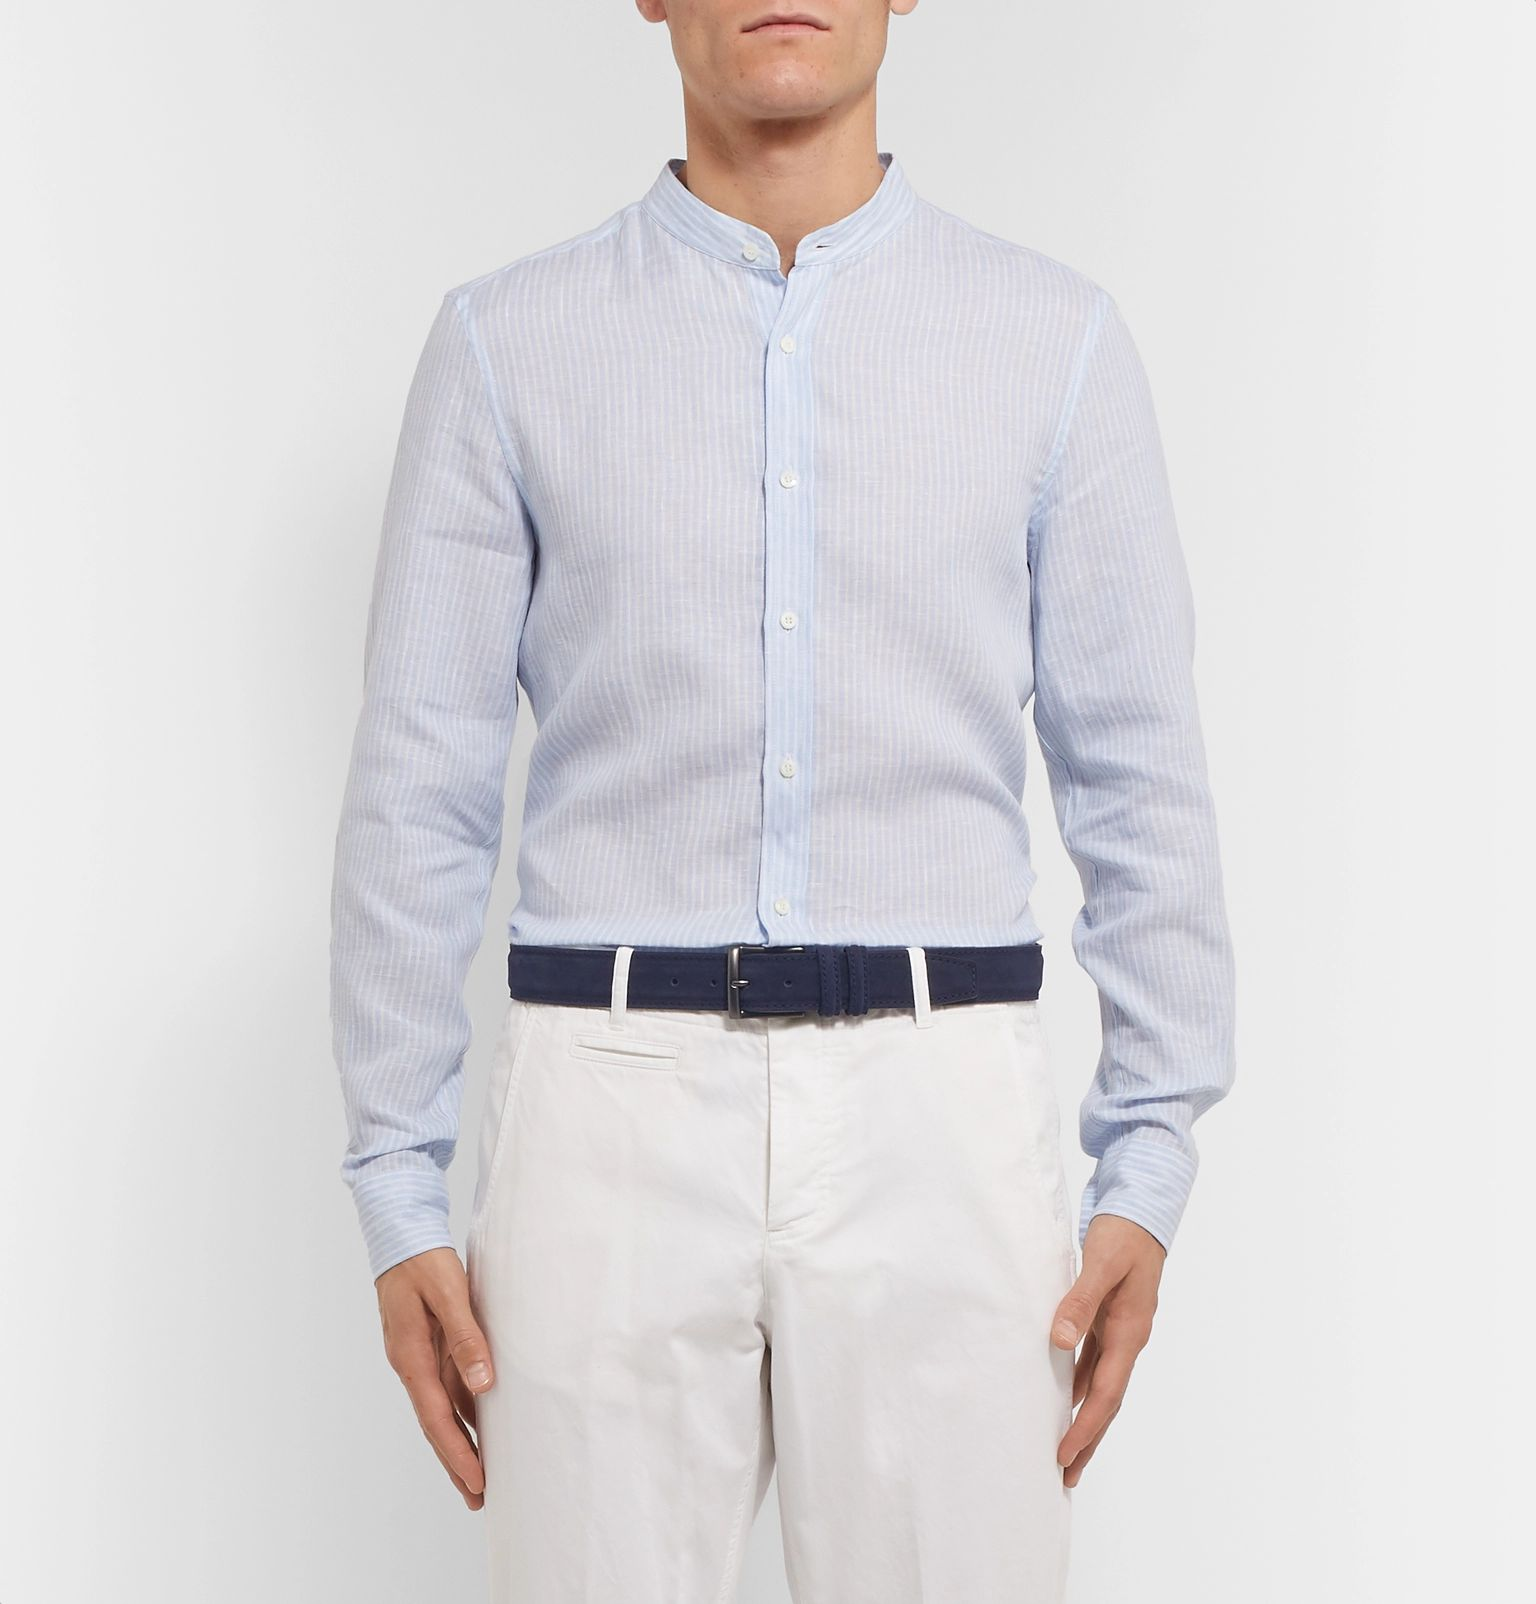F_belt: (480, 932, 1099, 1053)
F_dress pants: (315, 140, 1245, 1259)
